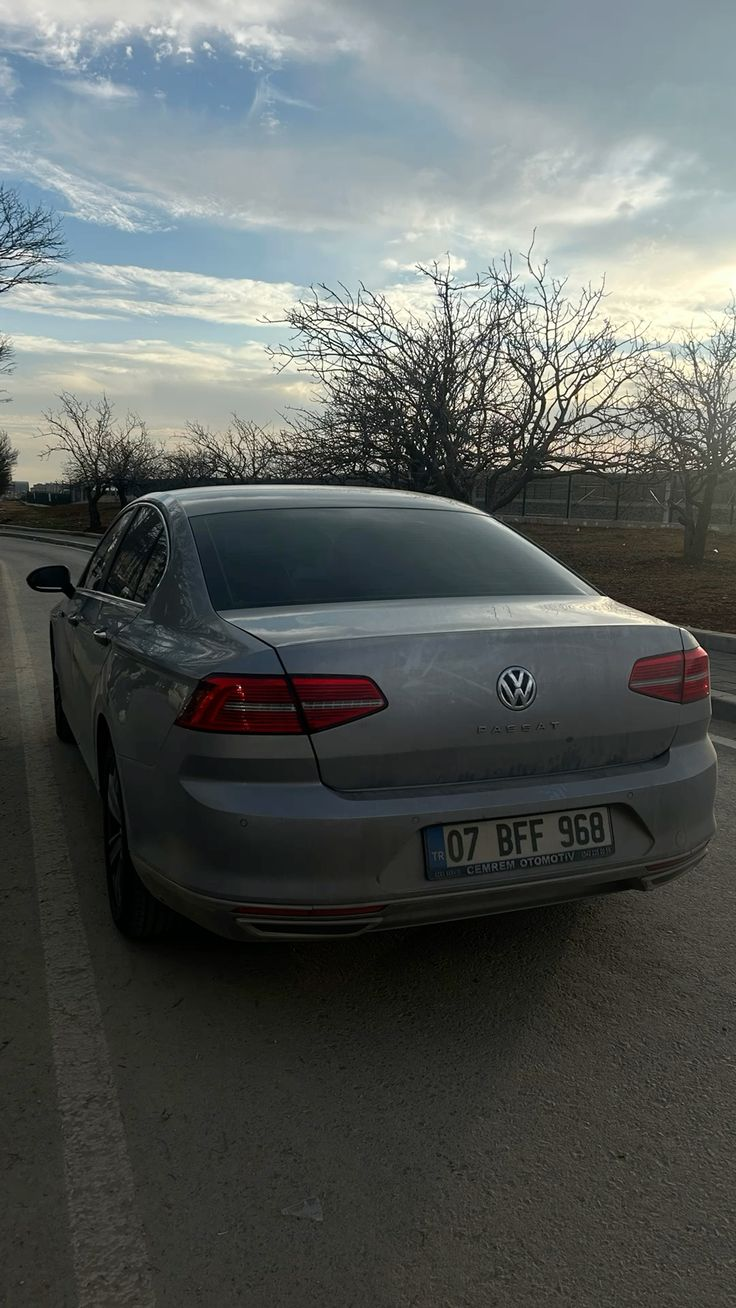plate: (425, 801, 619, 889)
